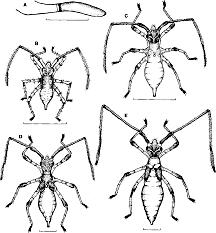Helopeltis-insect: (134, 138, 175, 225), (134, 21, 173, 99), (26, 153, 65, 223), (30, 53, 67, 109)
